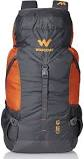bag: (5, 1, 81, 155)
